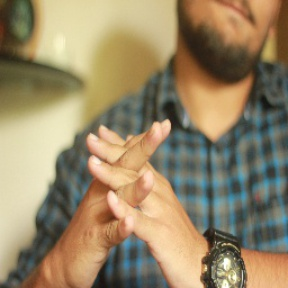W: (62, 108, 198, 259)
